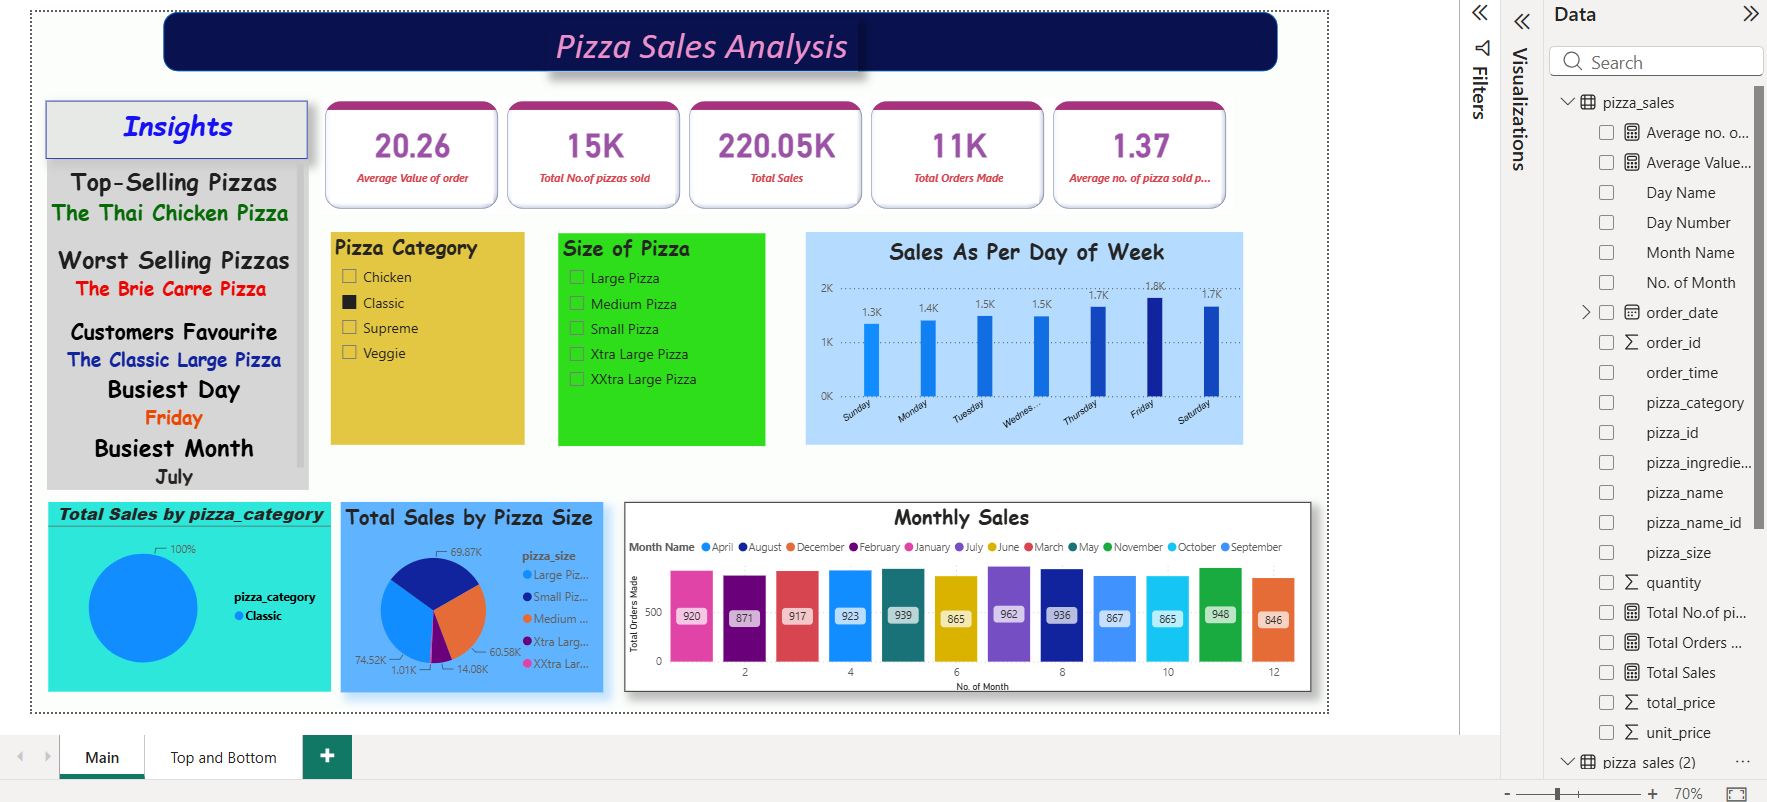

This screenshot's page, from the dashboard's own definition file:
{"tool":"powerbi","page":{"name":"Main ","canvas":[1480,800],"ordinal":0},"visuals":[{"type":"cardVisual","fields":{"Data":["pizza_sales.Average Value of order","pizza_sales.Total No.of pizzas sold","pizza_sales.Total Sales","pizza_sales.Total Orders Made","pizza_sales.Average no. of pizza sold per order"]},"box":[329.9,97,1042.3,133.1],"z":0},{"type":"shape","box":[149.7,0,1273.8,67.9],"z":1000},{"type":"textbox","box":[586.7,6.7,356.7,61.7],"z":2000},{"type":"columnChart","title":"Sales As Per Day of Week","fields":{"Category":["pizza_sales.Day Name"],"Y":["pizza_sales.Total Orders Made"]},"box":[884.3,251.4,500,242.9],"z":3000},{"type":"lineStackedColumnComboChart","title":"Monthly Sales","fields":{"Category":["pizza_sales.No. of Month"],"Y":["pizza_sales.Total Orders Made"],"Series":["pizza_sales.Month Name"]},"box":[676.7,560,785,216.7],"z":4000},{"type":"pieChart","fields":{"Category":["pizza_sales.pizza_category"],"Y":["pizza_sales.Total Sales"]},"box":[18.3,560,323.3,216.7],"z":5000},{"type":"pieChart","title":"Total Sales by Pizza Size","fields":{"Category":["pizza_sales.pizza_size"],"Y":["pizza_sales.Total Sales"]},"box":[353.1,559.6,300.2,217.3],"z":6000},{"type":"textbox","box":[16,102,298.8,66.6],"z":8000},{"type":"textbox","box":[17.7,168.4,298.8,377.6],"z":9000},{"type":"slicer","title":"Pizza Category","fields":{"Values":["pizza_sales.pizza_category"]},"box":[341.7,251.7,221.7,243.3],"z":10000},{"type":"slicer","title":"Size of Pizza","fields":{"Values":["pizza_sales.pizza_size"]},"box":[601.7,253.3,236.7,243.3],"z":11000}]}

Visuals, with their boxes on the page's 1480x800 design canvas (x1, y1, x2, y2). These are canvas units, not pixel positions in the 1767x802 screenshot, which may show the page scaled, cropped or inside an application window:
cardVisual - pizza_sales.Average Value of order x pizza_sales.Total No.of pizzas sold: {"x1": 330, "y1": 97, "x2": 1372, "y2": 230}
shape: {"x1": 150, "y1": 0, "x2": 1424, "y2": 68}
textbox: {"x1": 587, "y1": 7, "x2": 943, "y2": 68}
"Sales As Per Day of Week" columnChart: {"x1": 884, "y1": 251, "x2": 1384, "y2": 494}
"Monthly Sales" lineStackedColumnComboChart: {"x1": 677, "y1": 560, "x2": 1462, "y2": 777}
pieChart - pizza_sales.pizza_category x pizza_sales.Total Sales: {"x1": 18, "y1": 560, "x2": 342, "y2": 777}
"Total Sales by Pizza Size" pieChart: {"x1": 353, "y1": 560, "x2": 653, "y2": 777}
textbox: {"x1": 16, "y1": 102, "x2": 315, "y2": 169}
textbox: {"x1": 18, "y1": 168, "x2": 316, "y2": 546}
"Pizza Category" slicer: {"x1": 342, "y1": 252, "x2": 563, "y2": 495}
"Size of Pizza" slicer: {"x1": 602, "y1": 253, "x2": 838, "y2": 497}
